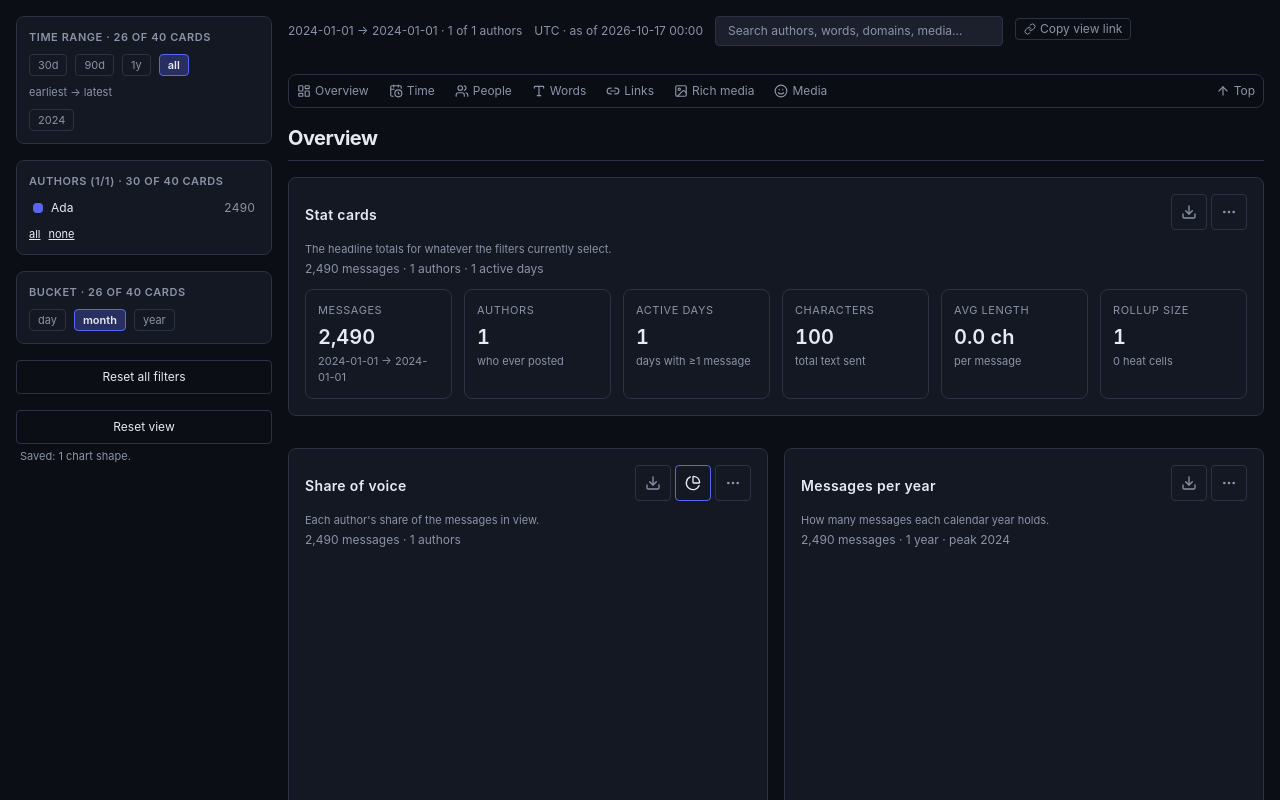
a chart shape through the dashboard › returns every card to the shape its spec declares under Reset view
Click the button "Reset view". click: (144, 427)
box: [16,410,272,444]
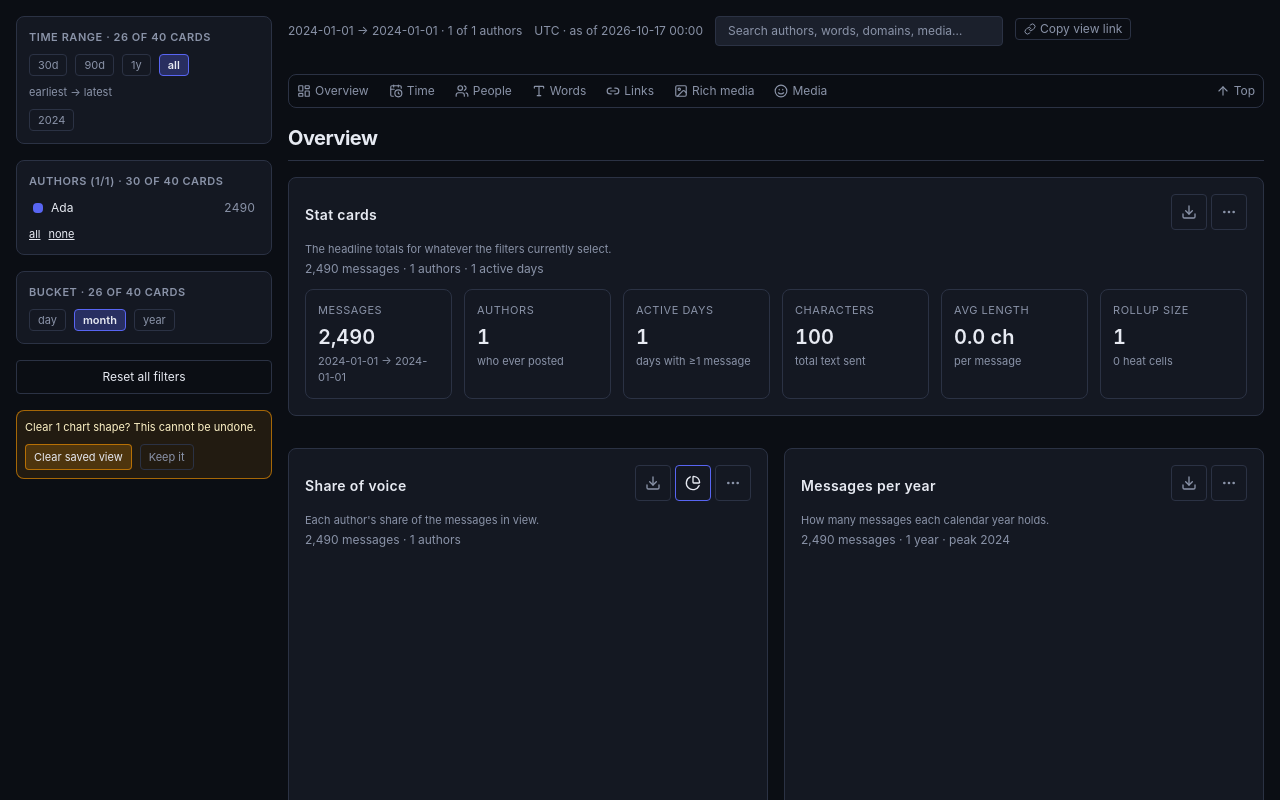
Click the button "Clear saved view". click: (78, 457)
box: [25,444,132,470]
(page scrolled)
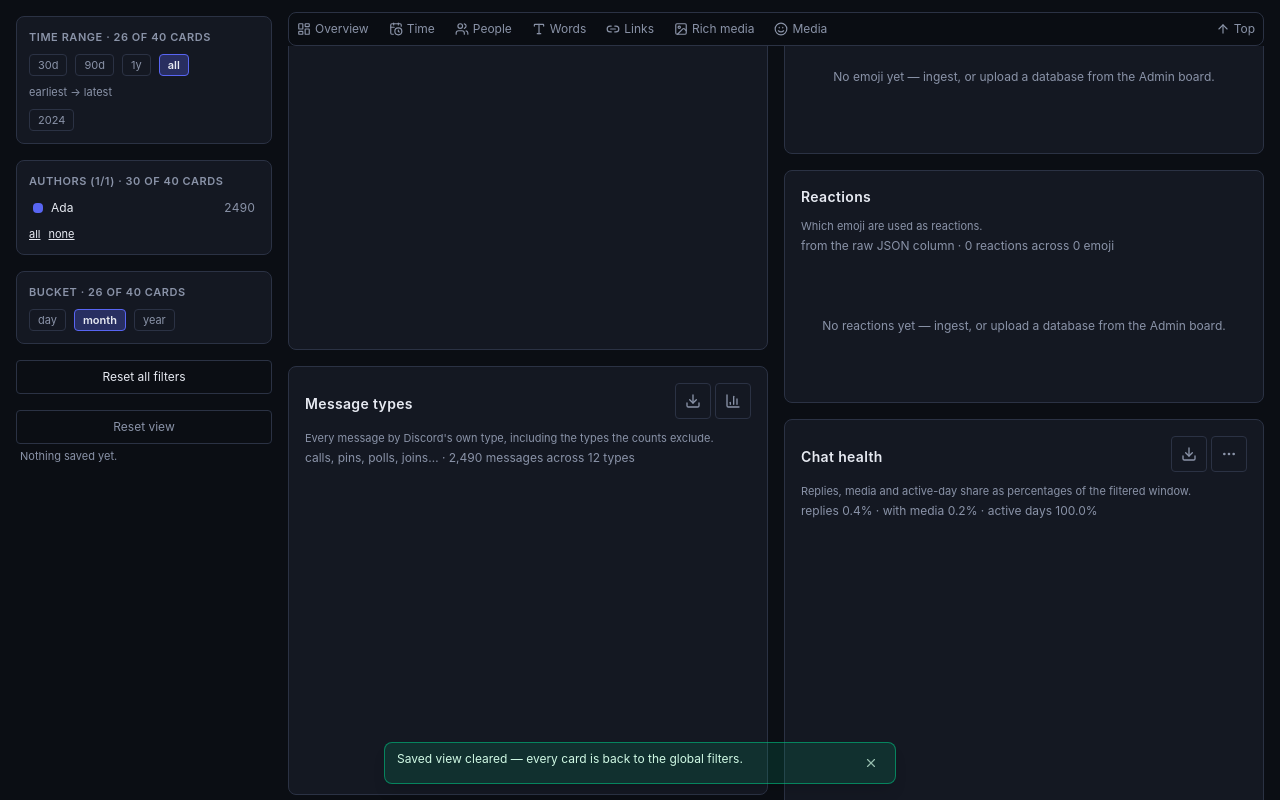
Expected: the button named "Message types as bars" is shown, [715,383,751,419]
